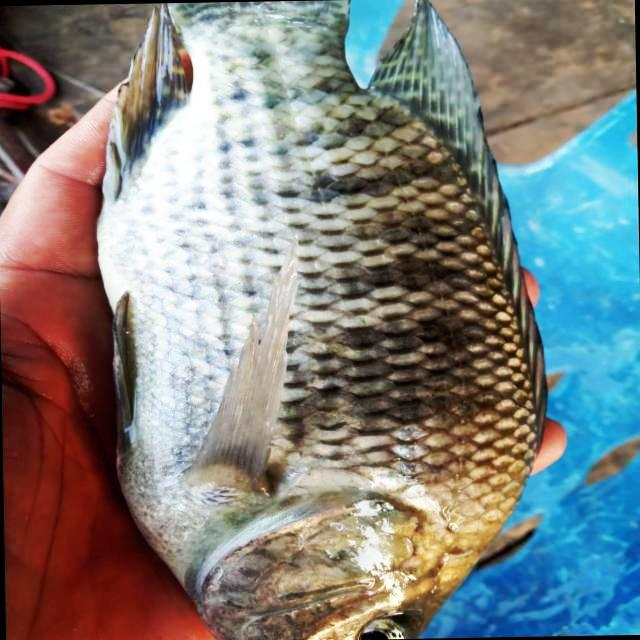Columnaris Disease: (97, 0, 545, 639)
